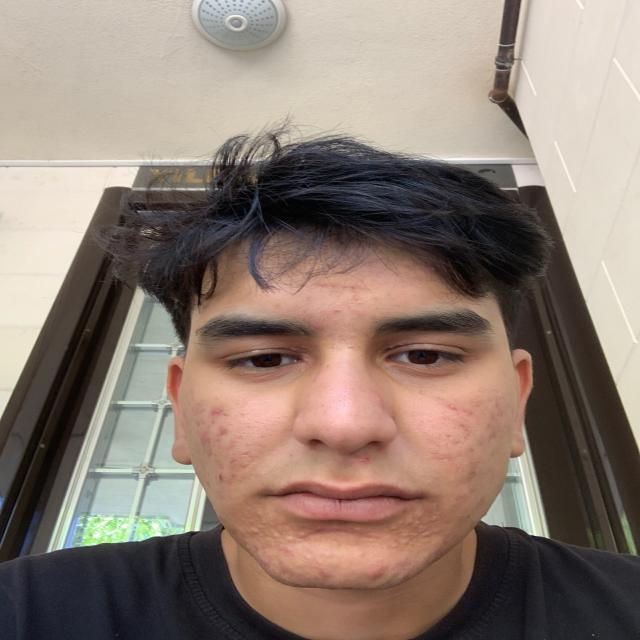Acne: (384, 509, 436, 548), (252, 513, 281, 541), (284, 526, 322, 542), (458, 460, 481, 485), (198, 431, 218, 459), (189, 390, 208, 416), (236, 447, 255, 471), (449, 488, 474, 506), (252, 546, 274, 566), (360, 532, 385, 548), (435, 399, 467, 411), (442, 432, 466, 448), (364, 566, 391, 580), (490, 399, 508, 419), (274, 560, 296, 576), (368, 388, 386, 407), (184, 418, 218, 428), (272, 542, 296, 556), (482, 423, 498, 443), (441, 410, 476, 419), (428, 453, 459, 463), (292, 296, 311, 312), (208, 407, 232, 419), (457, 422, 473, 438), (425, 473, 441, 488), (238, 528, 250, 547), (418, 548, 432, 563), (312, 322, 328, 335), (349, 306, 366, 318), (351, 290, 364, 305), (216, 424, 232, 436), (315, 566, 332, 577), (474, 496, 488, 508), (356, 456, 374, 464), (272, 301, 286, 311), (349, 525, 364, 534), (319, 548, 332, 558), (439, 537, 450, 548), (301, 553, 314, 562), (214, 472, 225, 482), (333, 307, 345, 315), (205, 478, 212, 488)
Blackheads: (231, 408, 281, 441), (406, 418, 446, 446), (329, 328, 359, 352), (335, 386, 356, 413)
Wrinkles: (230, 442, 279, 484), (299, 284, 374, 288)
